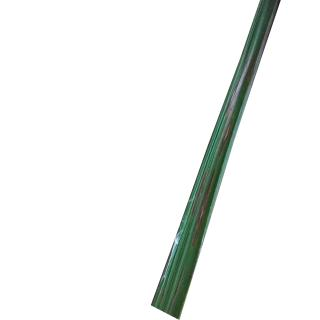Hawar-Daun: (189, 18, 273, 257)
